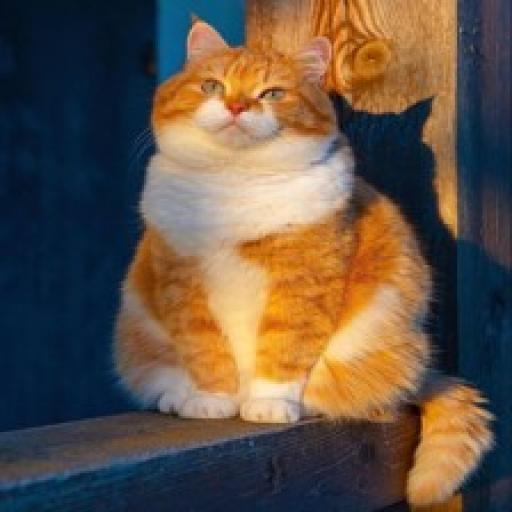cat: (113, 17, 494, 512)
